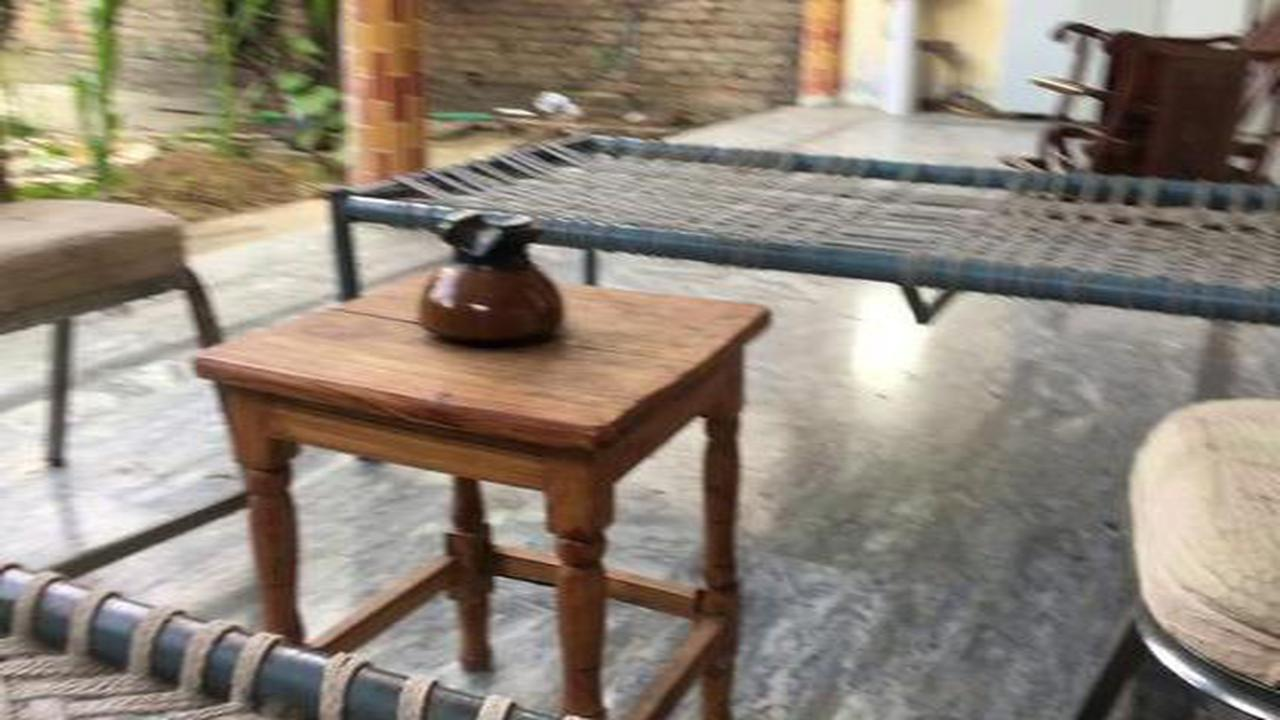insulator_pin: (404, 189, 573, 355)
